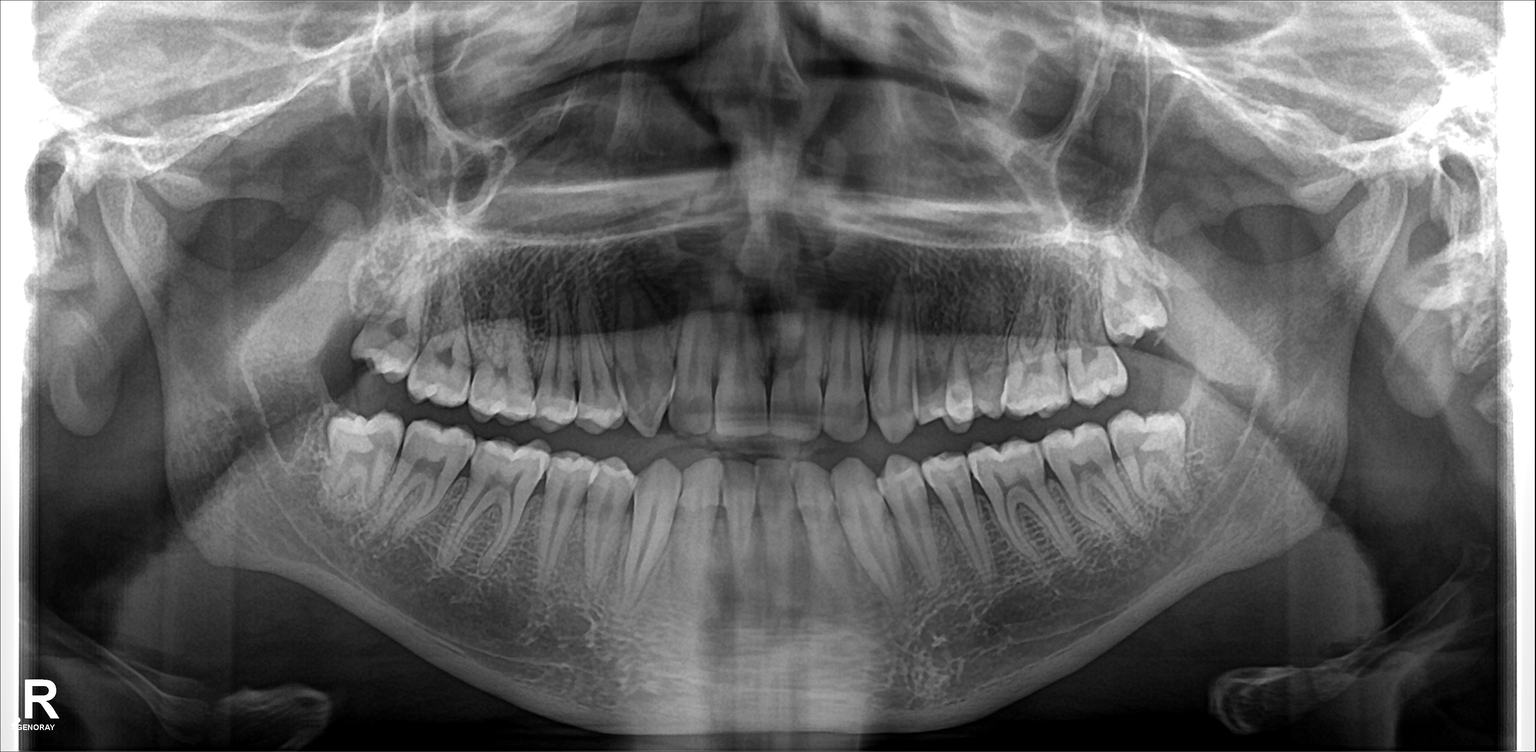Dental Caries: (345, 421, 389, 471)
Impacted Third Molar: (1095, 233, 1174, 340)
